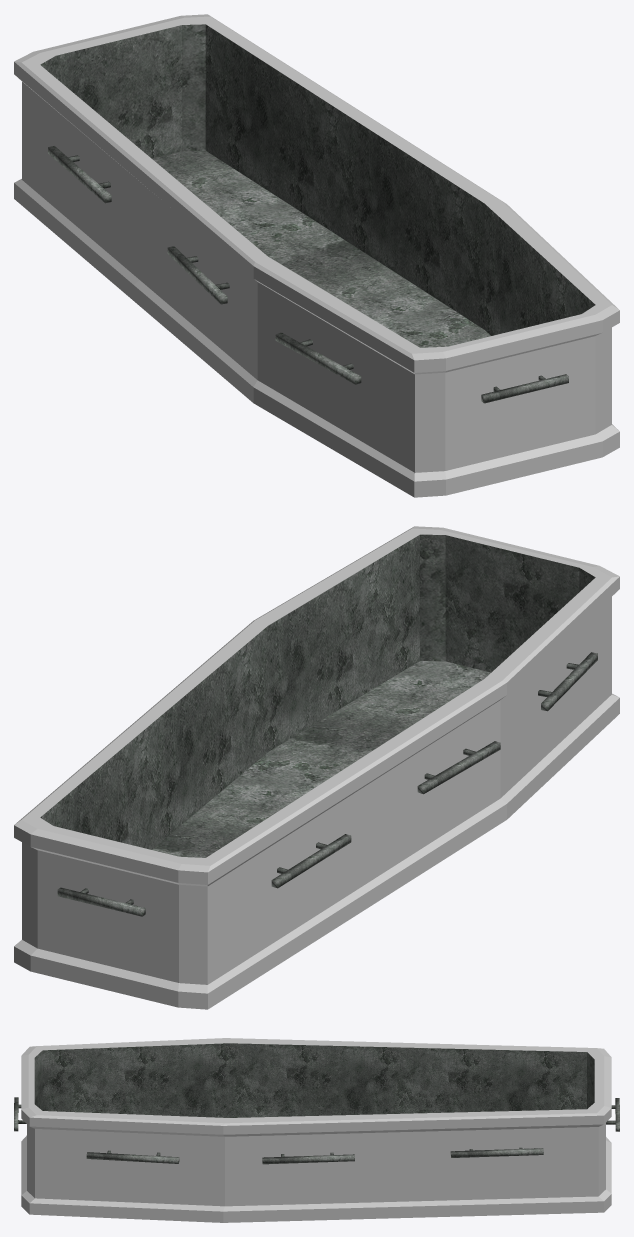
The model's file is CoffinItself.fbx.
3 renders of one model, top to bottom at view 1: azimuth 30°, elevation 25°; view 2: azimuth 150°, elevation 25°; view 3: azimuth 270°, elevation 25°, orthographic. The views are drawn at different scales.
Parts seen in each view (by area): view 1: Coffin_Box; view 2: Coffin_Box; view 3: Coffin_Box.
Part boxes in pixels (x1,y1,x2,y2): Coffin_Box: (14, 14, 619, 497); Coffin_Box: (14, 526, 619, 1009); Coffin_Box: (14, 1038, 619, 1222).
Size of the model in its own units: 83.23 by 40.08 by 223.
